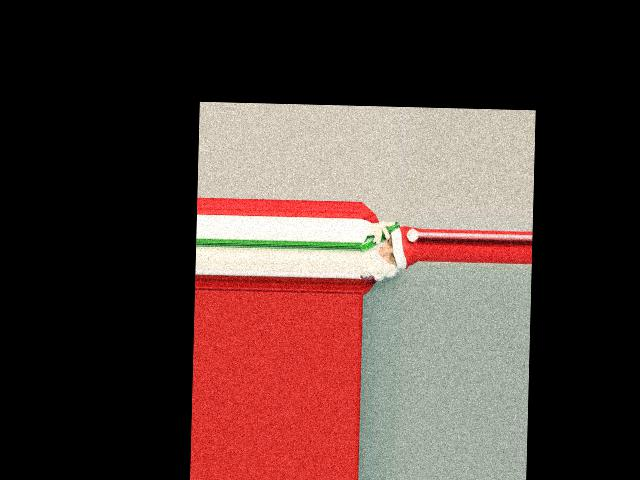beer: (359, 220, 399, 252)
